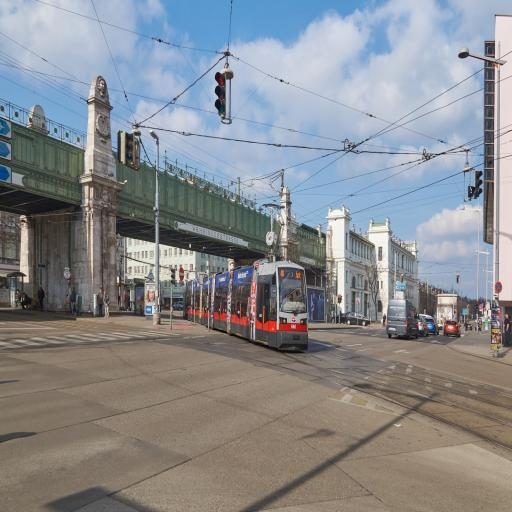ULF: (184, 264, 310, 350)
